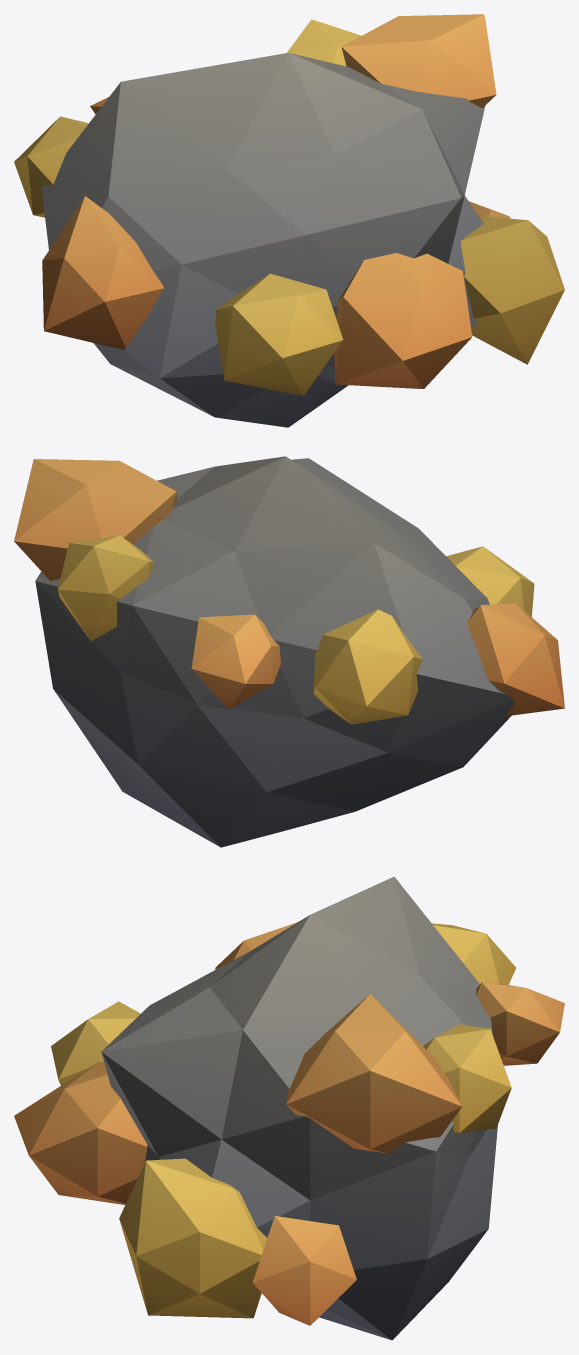
File: item_ore_copper.glb
The picture shows the model from 3 angles, top to bottom: view 1: azimuth 30°, elevation 25°; view 2: azimuth 150°, elevation 25°; view 3: azimuth 270°, elevation 25°; orthographic projection. The views are drawn at different scales.
Parts seen in each view (by area): view 1: item_ore_copper; view 2: item_ore_copper; view 3: item_ore_copper.
Part boxes in pixels (<box>): item_ore_copper: <box>14,14,564,427</box>; item_ore_copper: <box>14,456,564,847</box>; item_ore_copper: <box>14,876,564,1340</box>.
Size of the model in its own units: 1.45 by 1.05 by 1.31.
1 material, 1 textured.
